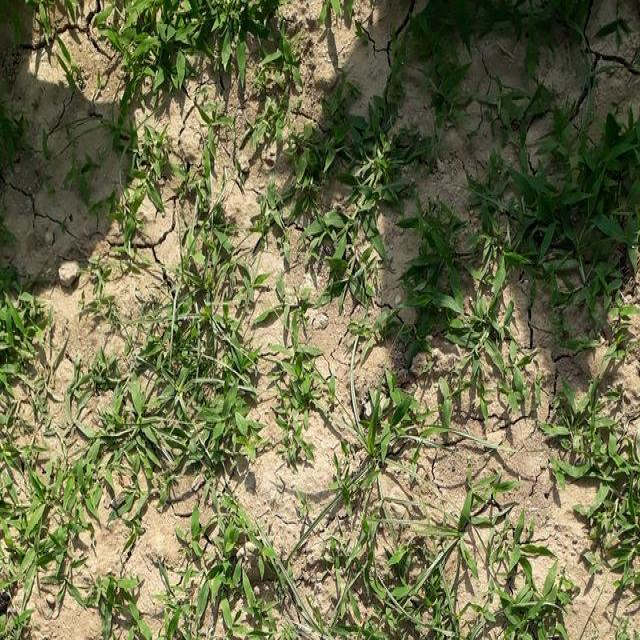weed: (169, 510, 563, 640), (86, 249, 271, 509), (472, 70, 640, 289), (61, 0, 314, 121), (290, 100, 398, 314)
